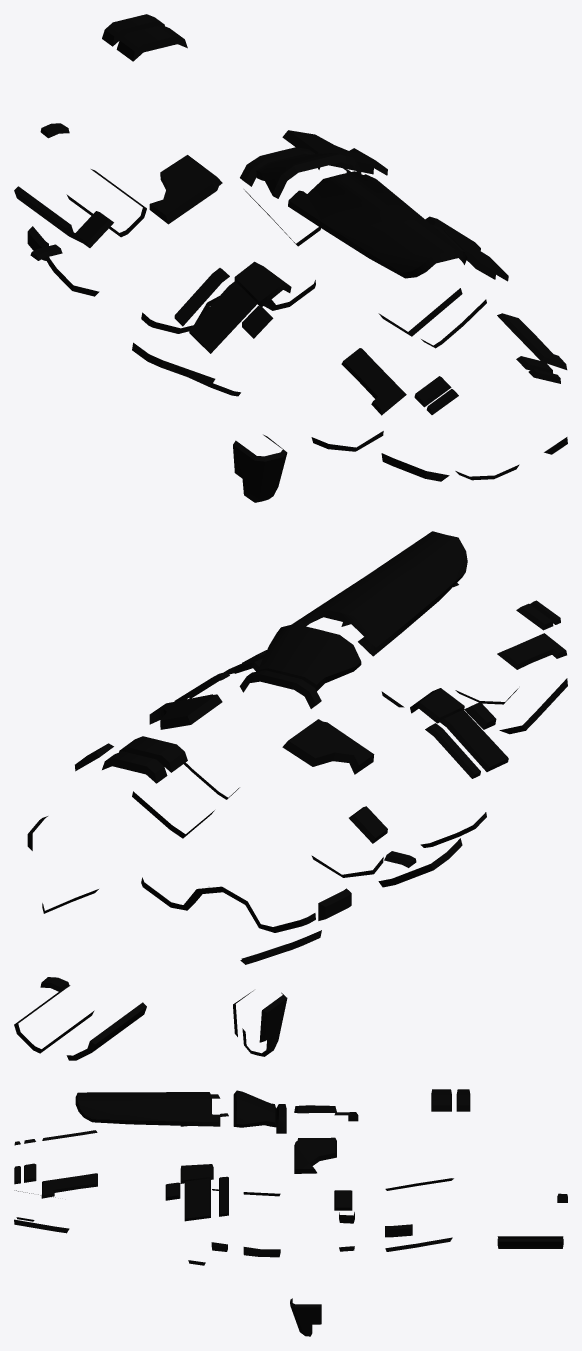
Rendered from ama_ancient_ship_02.glb.
The picture shows the model from 3 angles, top to bottom: view 1: azimuth 30°, elevation 25°; view 2: azimuth 150°, elevation 25°; view 3: azimuth 270°, elevation 25°; orthographic projection. The views are drawn at different scales.
Visible parts, largest first — view 1: ama_ancient_ship_02_LOD0; view 2: ama_ancient_ship_02_LOD0; view 3: ama_ancient_ship_02_LOD0.
Part boxes in pixels (x1=…): ama_ancient_ship_02_LOD0: x1=14, y1=14, x2=567, y2=502; ama_ancient_ship_02_LOD0: x1=14, y1=531, x2=567, y2=1060; ama_ancient_ship_02_LOD0: x1=14, y1=1089, x2=567, y2=1336.
Size of what is drawn, in the model's own units: 2.88 by 3.09 by 6.46.
1 material, 1 textured.
